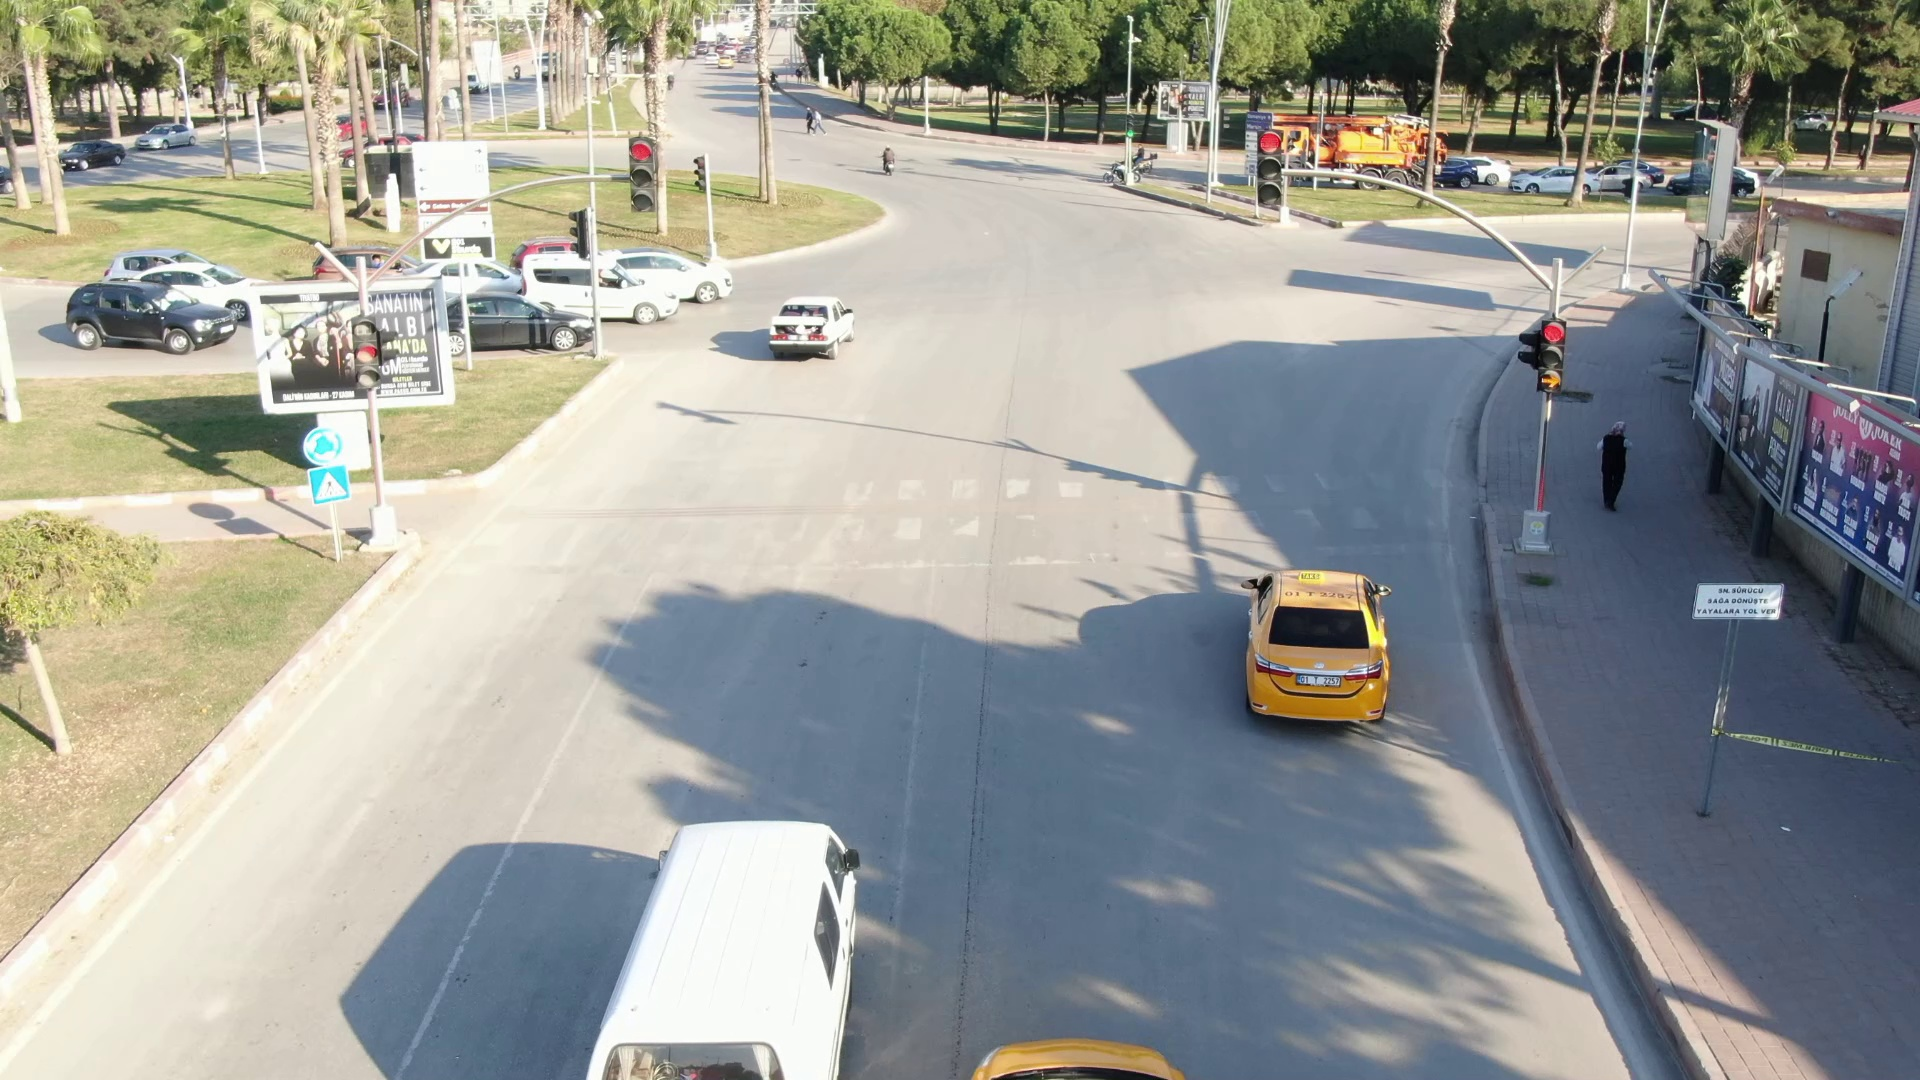car: (562, 823, 876, 1080), (1237, 557, 1394, 731), (55, 276, 241, 351), (515, 249, 680, 323), (449, 294, 600, 353), (759, 292, 868, 365)
person: (1592, 410, 1633, 525)
